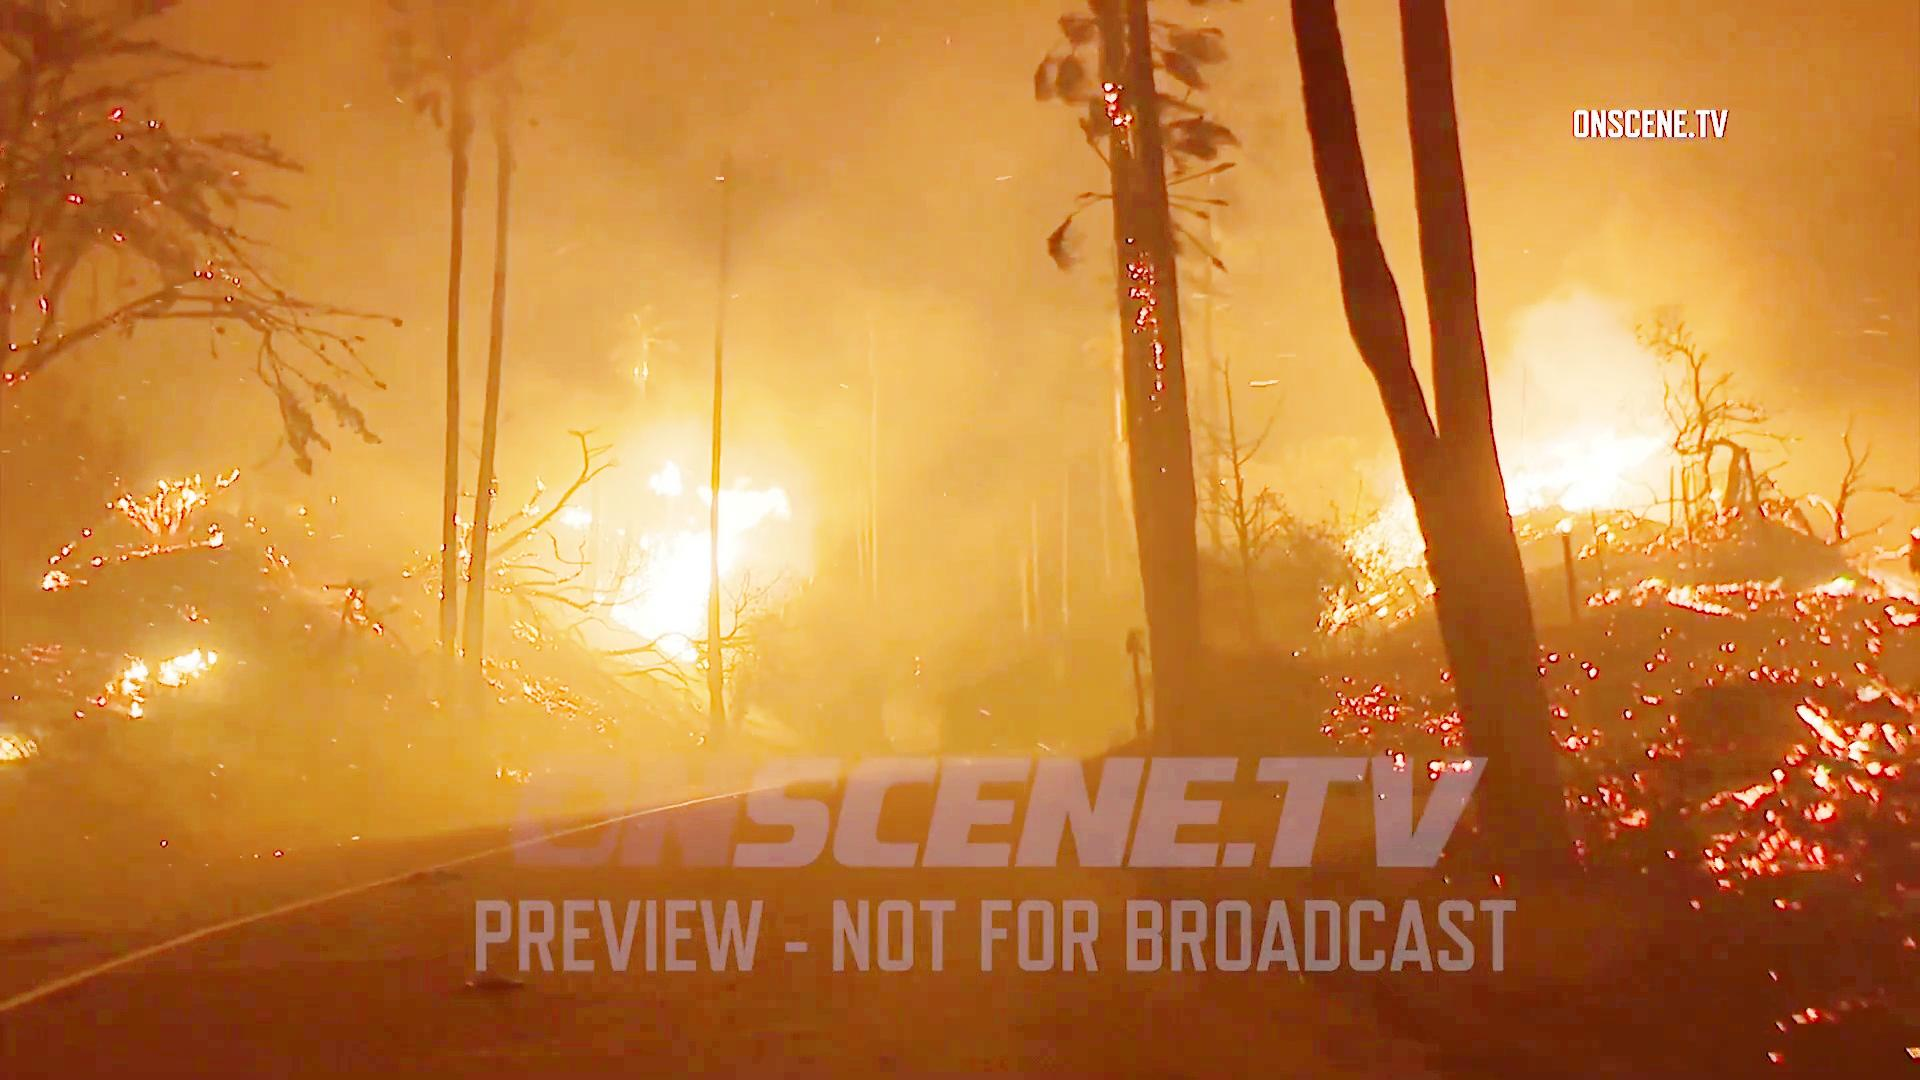fire: (587, 468, 811, 649), (1491, 430, 1680, 522)
